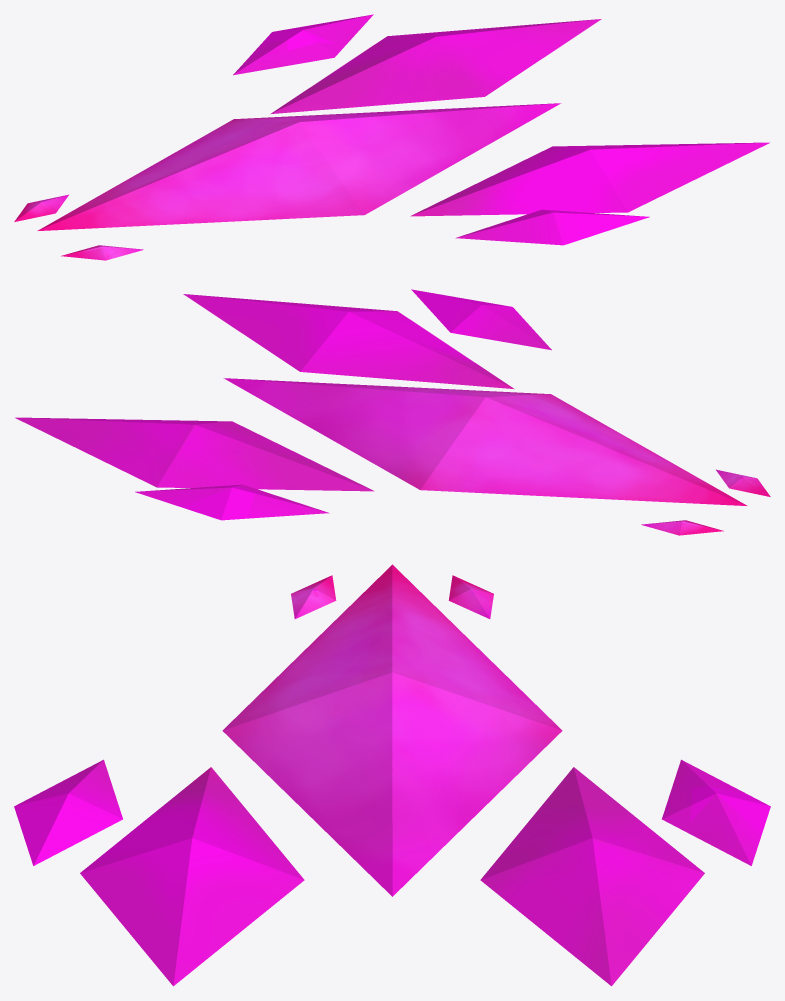
File: NaveProto00.fbx
The picture shows the model from 3 angles, top to bottom: view 1: azimuth 30°, elevation 25°; view 2: azimuth 150°, elevation 25°; view 3: azimuth 270°, elevation 25°; orthographic projection. The views are drawn at different scales.
Parts seen in each view (by area): view 1: Cube; view 2: Cube; view 3: Cube.
Boxes of the visible parts, x1,y1,x2,y2 form: Cube: (14, 14, 769, 260); Cube: (15, 289, 770, 535); Cube: (14, 564, 770, 986).
Size of the model in its own units: 954 by 126 by 742.
